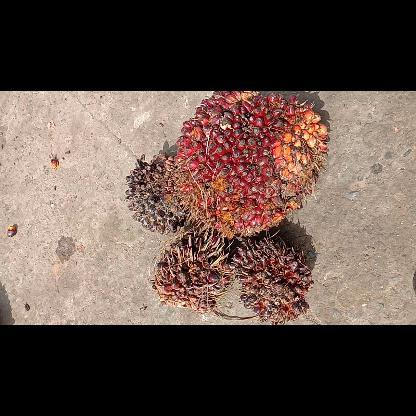TBS abnormal: (230, 238, 314, 324), (151, 229, 233, 315), (123, 150, 187, 234)
TBS masak: (170, 91, 332, 243)
